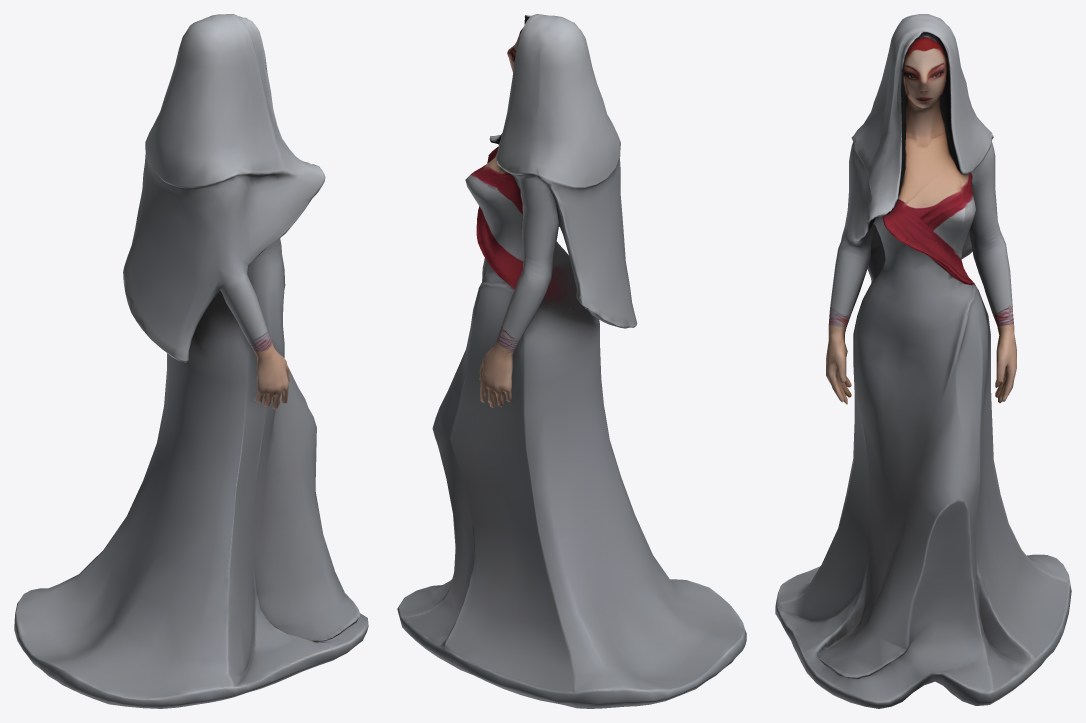
The model's file is min13t.glb.
The picture shows the model from 3 angles, left to right: view 1: azimuth 30°, elevation 25°; view 2: azimuth 150°, elevation 25°; view 3: azimuth 270°, elevation 25°; orthographic projection. The views are drawn at different scales.
Visible parts, largest first — view 1: tripo_node_53ba6889-4384-4563-a1e6-c3bc15da051f; view 2: tripo_node_53ba6889-4384-4563-a1e6-c3bc15da051f; view 3: tripo_node_53ba6889-4384-4563-a1e6-c3bc15da051f.
Boxes of the visible parts, x1,y1,x2,y2 form: tripo_node_53ba6889-4384-4563-a1e6-c3bc15da051f: (14,14,368,708); tripo_node_53ba6889-4384-4563-a1e6-c3bc15da051f: (397,14,746,708); tripo_node_53ba6889-4384-4563-a1e6-c3bc15da051f: (775,14,1071,708).
Bounding box in the file's own units: 0.502 × 0.998 × 0.4238.
Materials: 1 (1 with a texture image).
